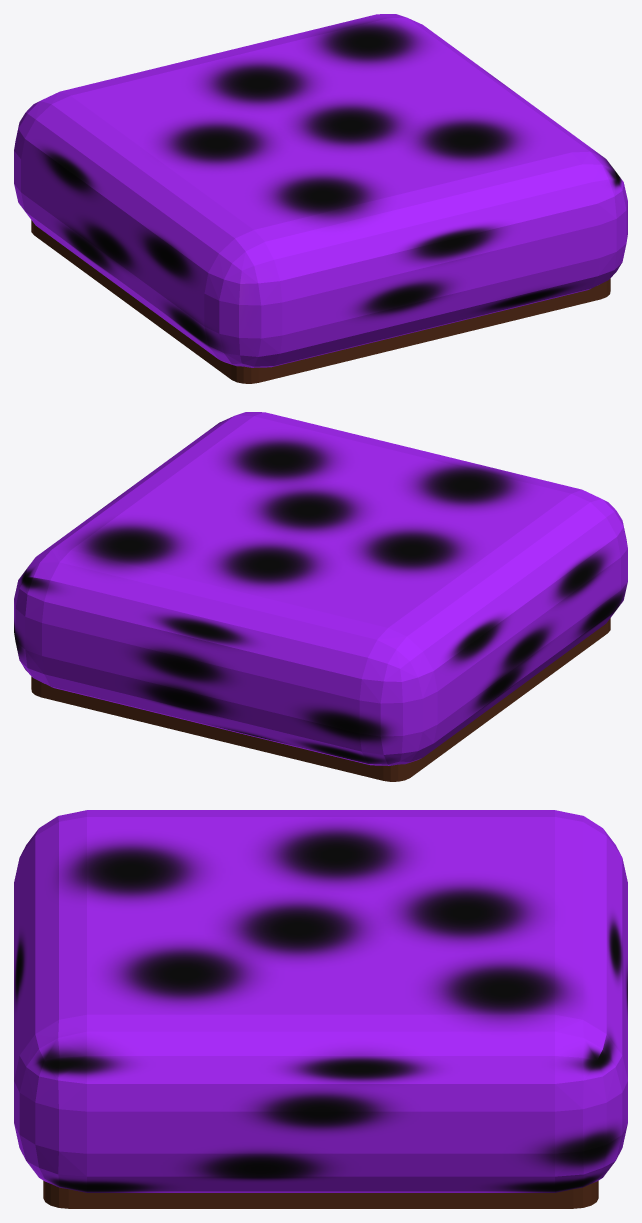
The model's file is JumpingKinoko(Base_3Color).obj.
3 views of the same model, one above another, from view 1: azimuth 30°, elevation 25°; view 2: azimuth 150°, elevation 25°; view 3: azimuth 270°, elevation 25° (orthographic). The views are drawn at different scales.
Parts seen in each view (by area): view 1: 立方体, 立方体.001; view 2: 立方体, 立方体.001; view 3: 立方体, 立方体.001.
Part boxes in pixels (x1,y1,x2,y2): 立方体: (14, 14, 627, 367); 立方体.001: (31, 220, 610, 383); 立方体: (14, 412, 627, 765); 立方体.001: (31, 618, 610, 781); 立方体: (14, 810, 627, 1192); 立方体.001: (43, 1180, 598, 1208).
Bounding box in the file's own units: 34.08 × 10.76 × 34.08.
2 materials, 1 textured.
